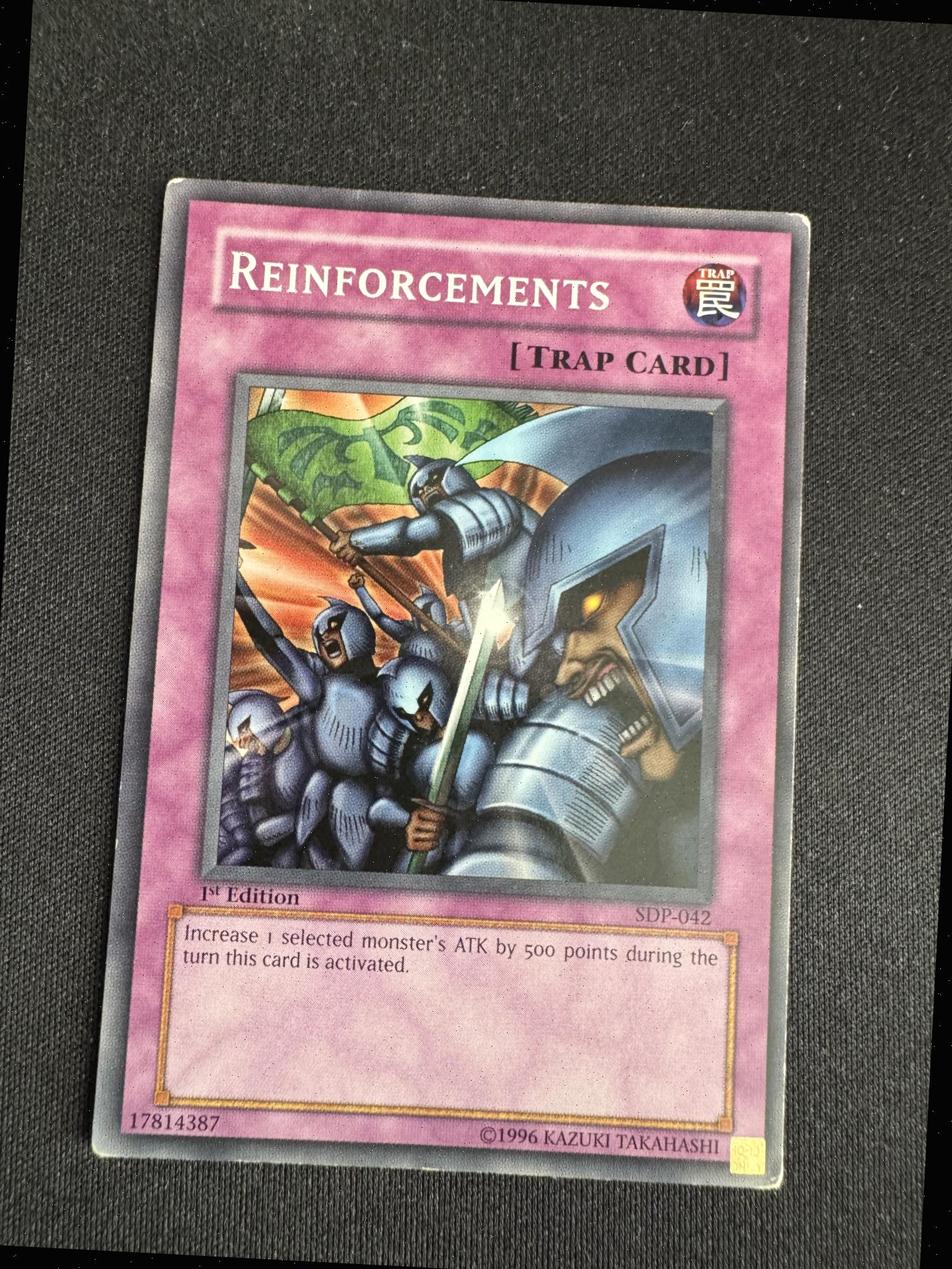card-2UtV: (91, 176, 811, 1189)
